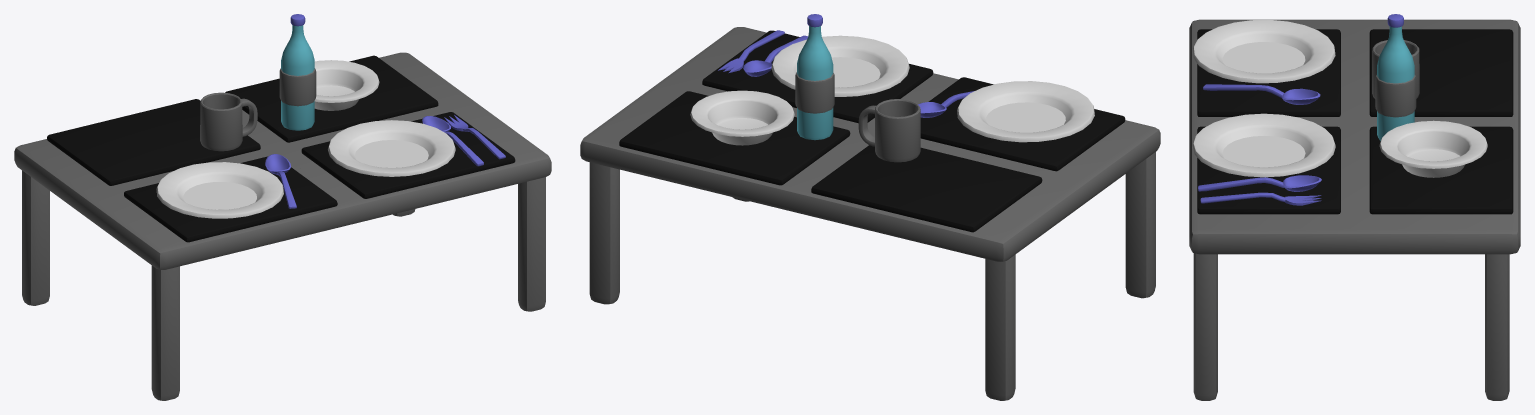
File: SM_table_set.fbx
The picture shows the model from 3 angles, left to right: view 1: azimuth 30°, elevation 25°; view 2: azimuth 150°, elevation 25°; view 3: azimuth 270°, elevation 25°; orthographic projection. The views are drawn at different scales.
Parts seen in each view (by area): view 1: Box414; view 2: Box414; view 3: Box414.
Boxes of the visible parts, box(x1,y1,x2,y2) form: Box414: box(14, 14, 551, 400); Box414: box(580, 14, 1160, 400); Box414: box(1189, 14, 1520, 400).
Bounding box in the file's own units: 89.59 × 57.84 × 57.93.
